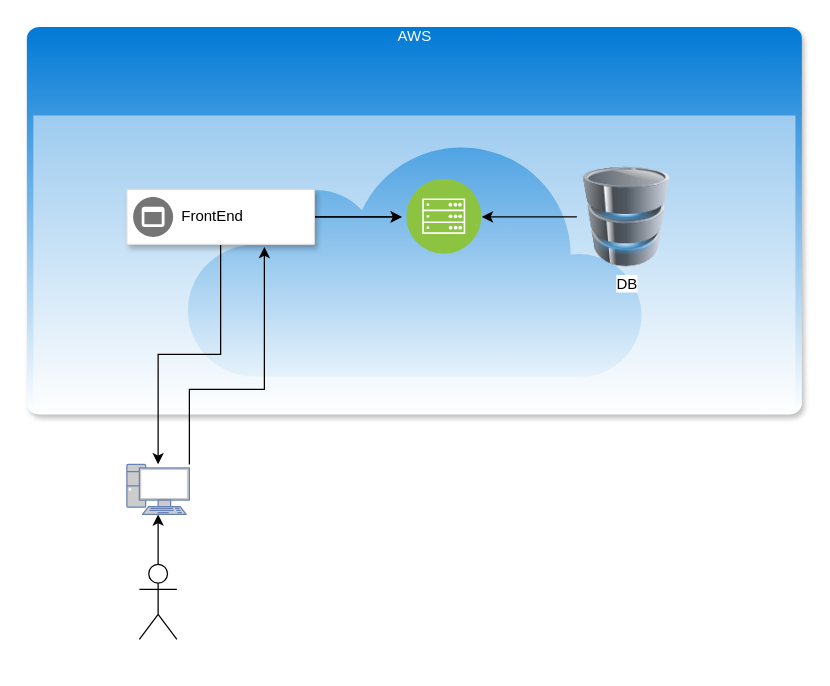
Image size: 830x686. Some labels were removed from this diagram. The shapes that lost their labels are listed below. From the top down, each one's centre as x and y in pixels, then its label:
the point at 443,216: BackEnd
the point at 157,601: User
